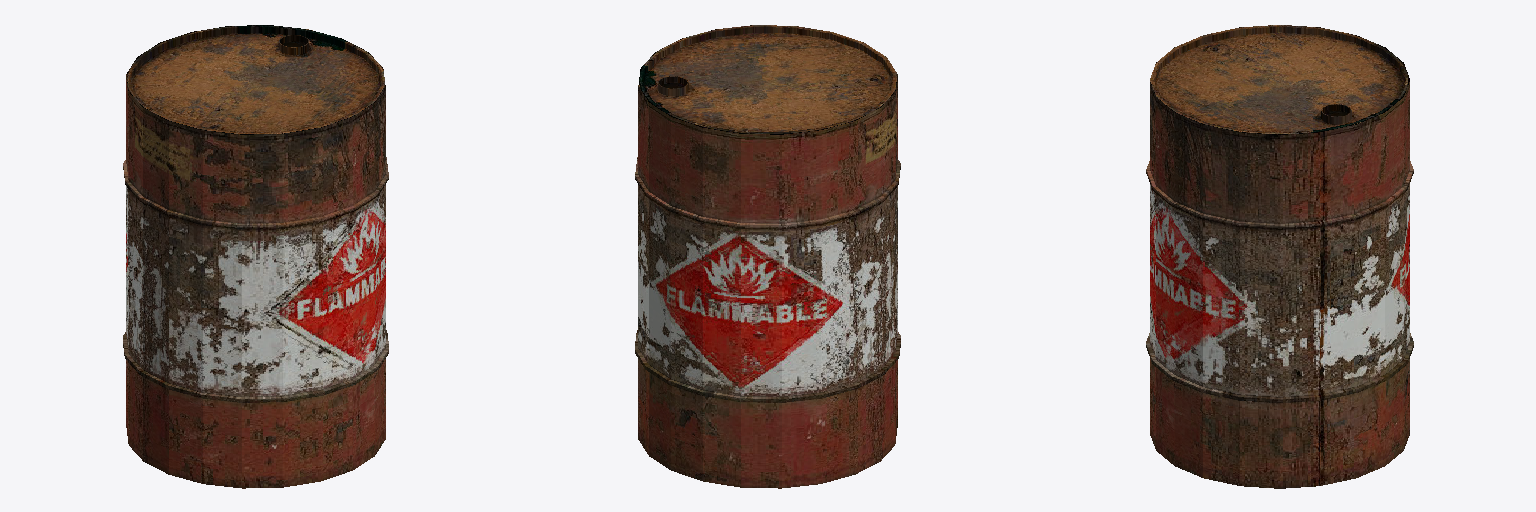
The picture shows the model from 3 angles: view 1: azimuth 30°, elevation 25°; view 2: azimuth 150°, elevation 25°; view 3: azimuth 270°, elevation 25°; orthographic projection.
Bounding box in the file's own units: 4.12 × 6.03 × 4.12.
1 materials, 1 textured.